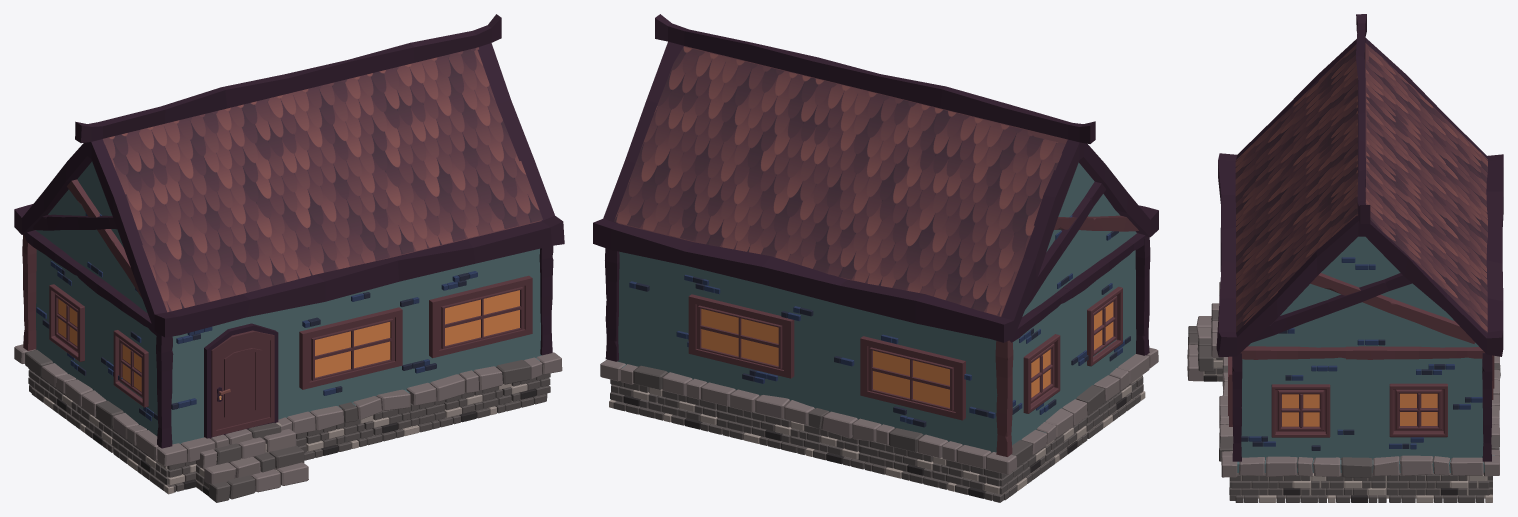
The model's file is casa-pedra8.fbx.
3 renders of one model, left to right at view 1: azimuth 30°, elevation 25°; view 2: azimuth 150°, elevation 25°; view 3: azimuth 270°, elevation 25°, orthographic. The views are drawn at different scales.
Visible parts, largest first — view 1: CasaPedra8_LOD0, PortaCasaPedra8; view 2: CasaPedra8_LOD0; view 3: CasaPedra8_LOD0.
Boxes of the visible parts, x1,y1,x2,y2 form: CasaPedra8_LOD0: [14, 14, 564, 502]; PortaCasaPedra8: [211, 330, 274, 436]; CasaPedra8_LOD0: [593, 14, 1158, 502]; CasaPedra8_LOD0: [1187, 14, 1503, 502].
Size of what is drawn, in the model's own units: 6.24 by 4.61 by 4.3.
